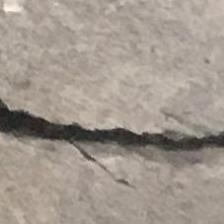Crack: (0, 78, 224, 169)
